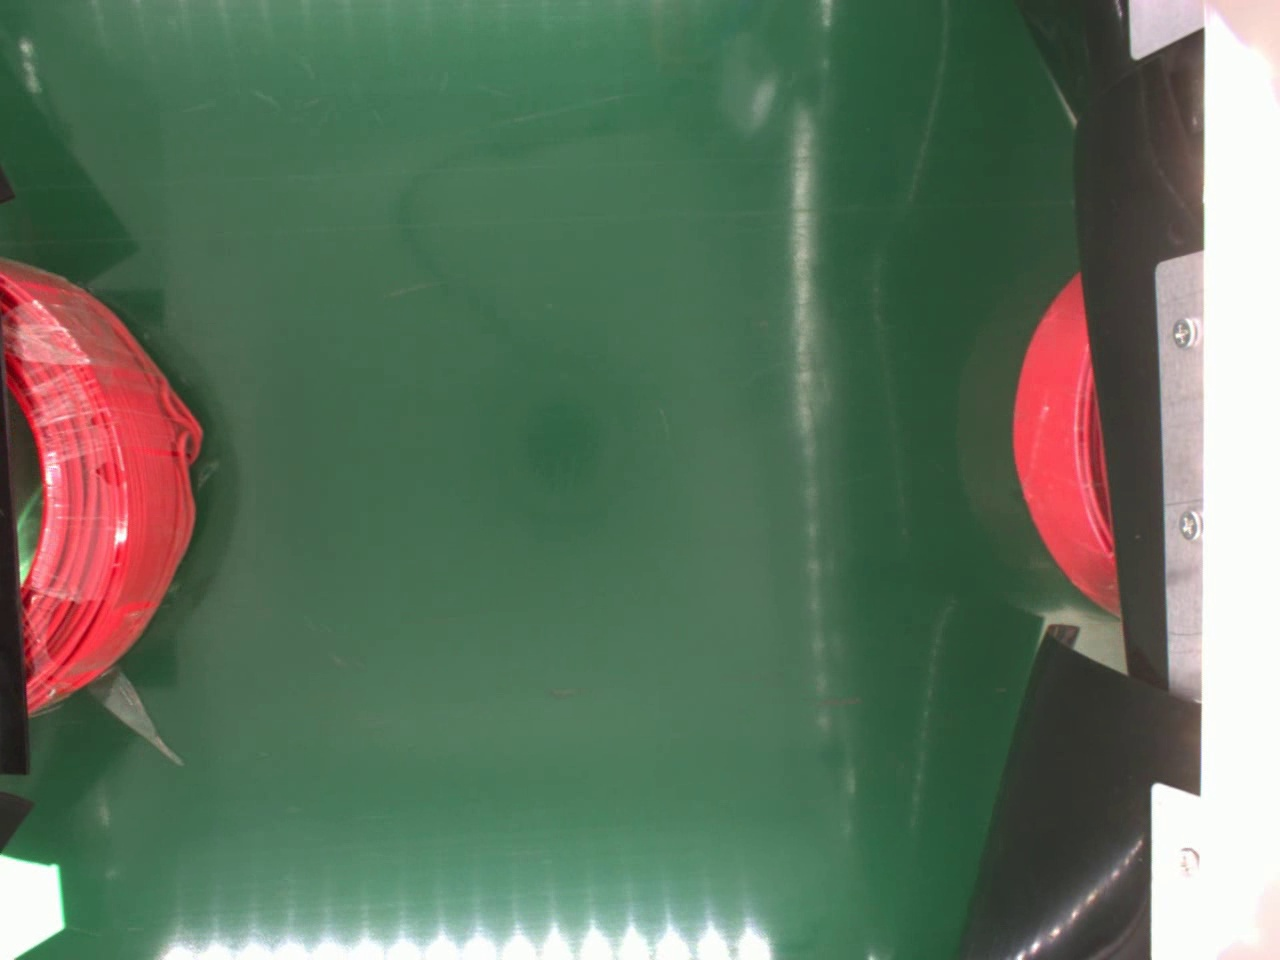red: (0, 262, 205, 713)
